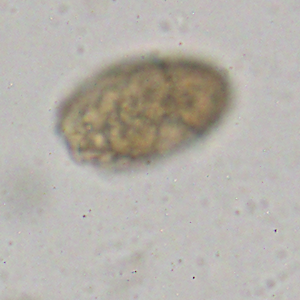Fasciola_hepatica_egg: (56, 49, 233, 170)
